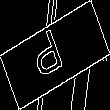P_SE: (34, 24, 76, 86)
